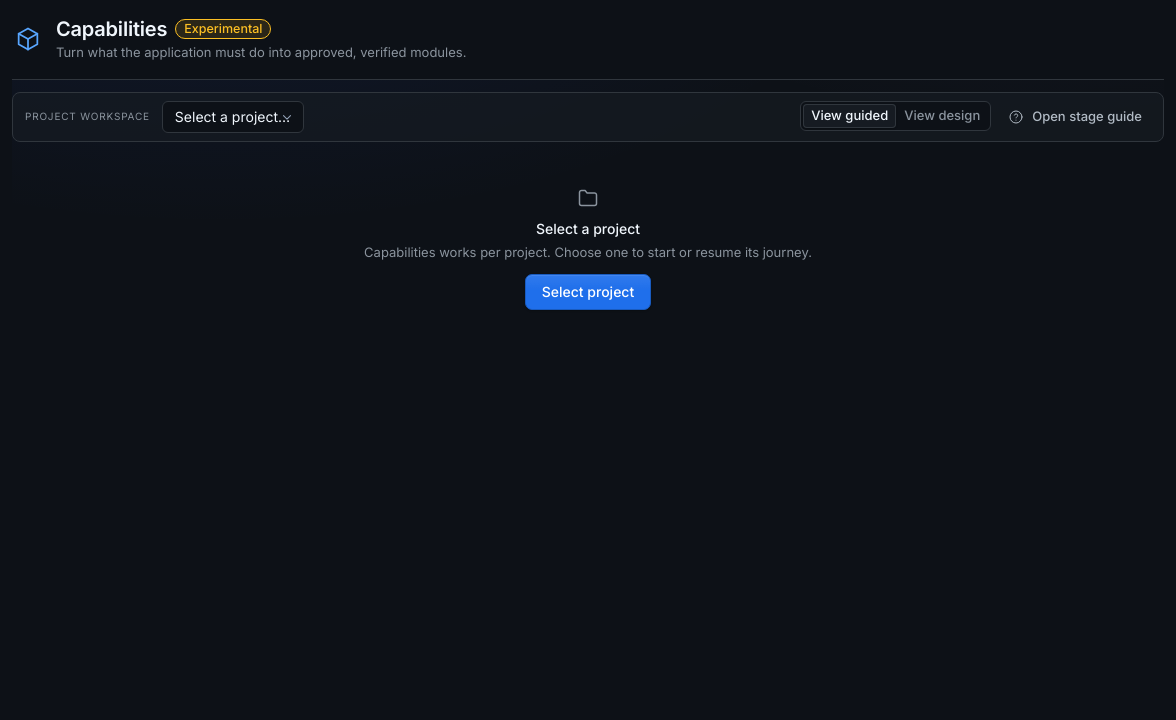
project isolation › discards a late Project A response after the user switches to Project B
Select "Project A" in the dropdown named "Capabilities project": coordinates (233, 116) [162,100,304,132]
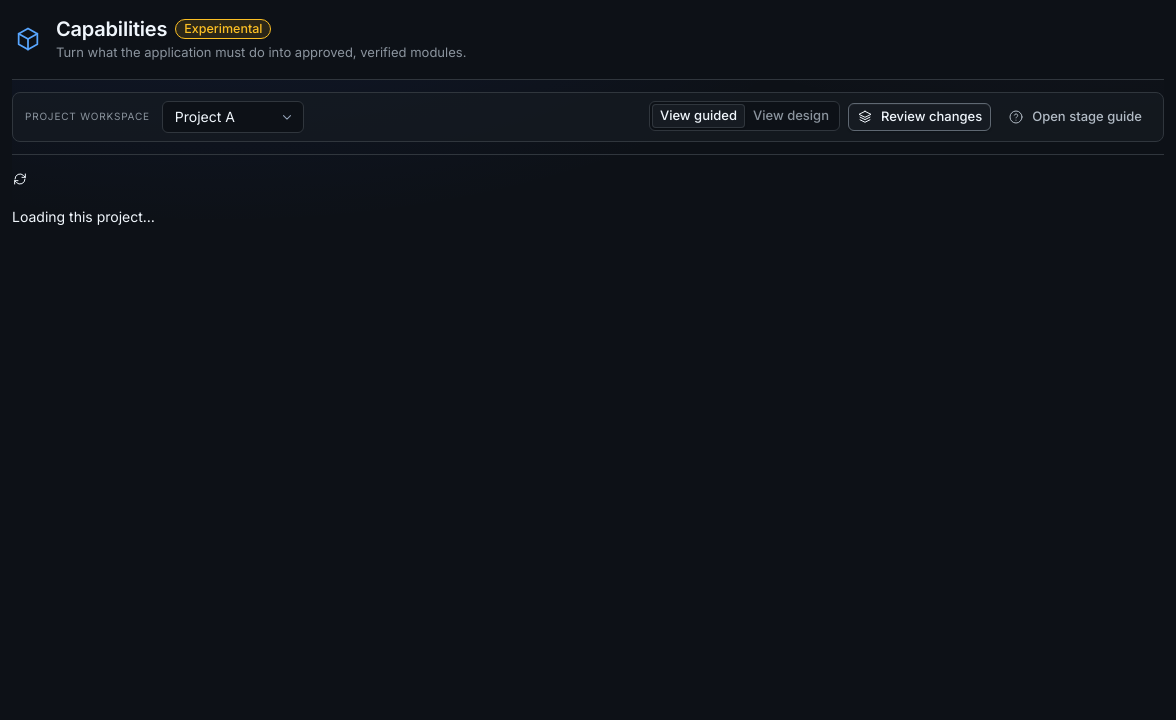
Select "Project B" in the dropdown named "Capabilities project": coordinates (233, 116) [162,100,304,132]
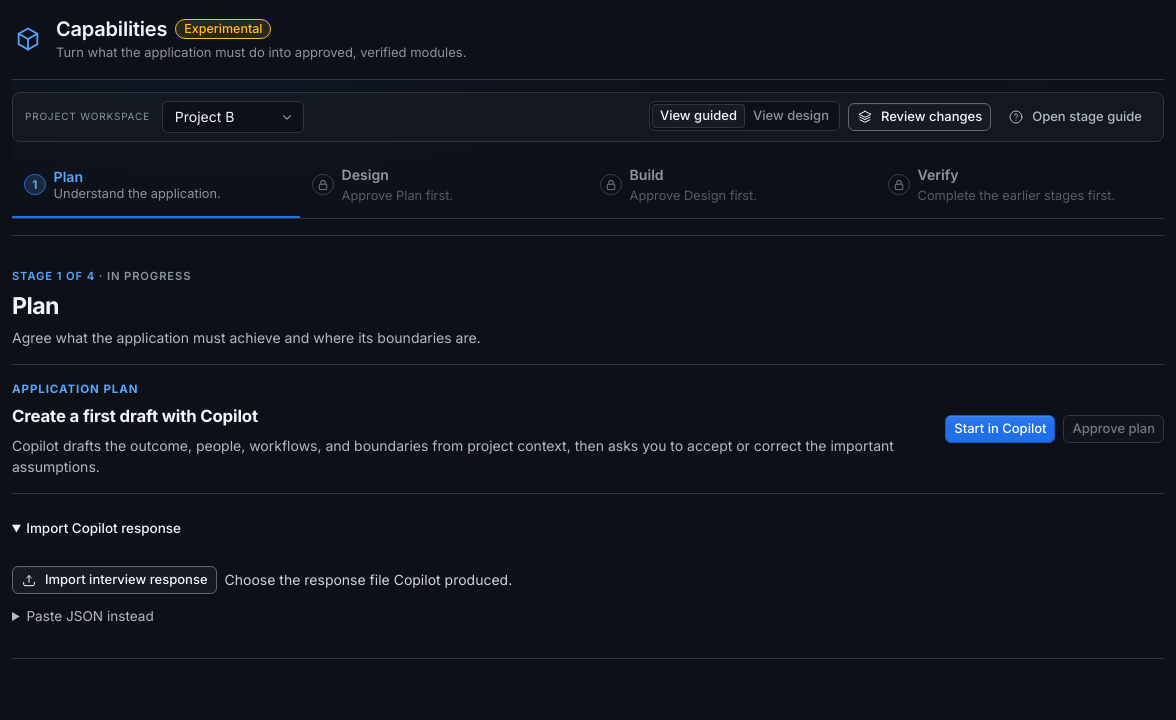
Now the text "Understand the application." is shown, box [54,186,221,201]
